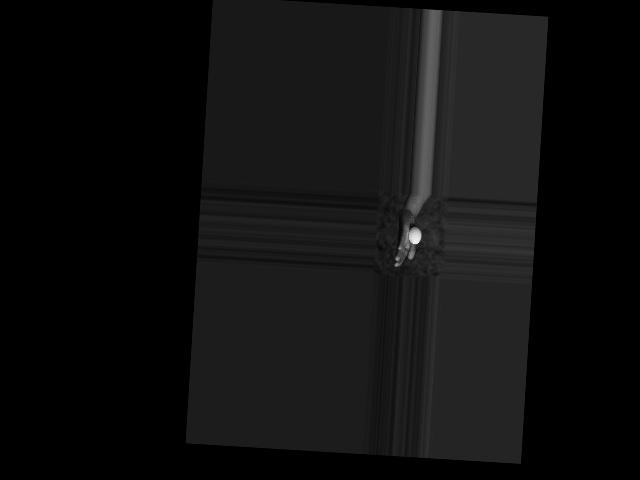egg: (407, 226, 422, 244)
